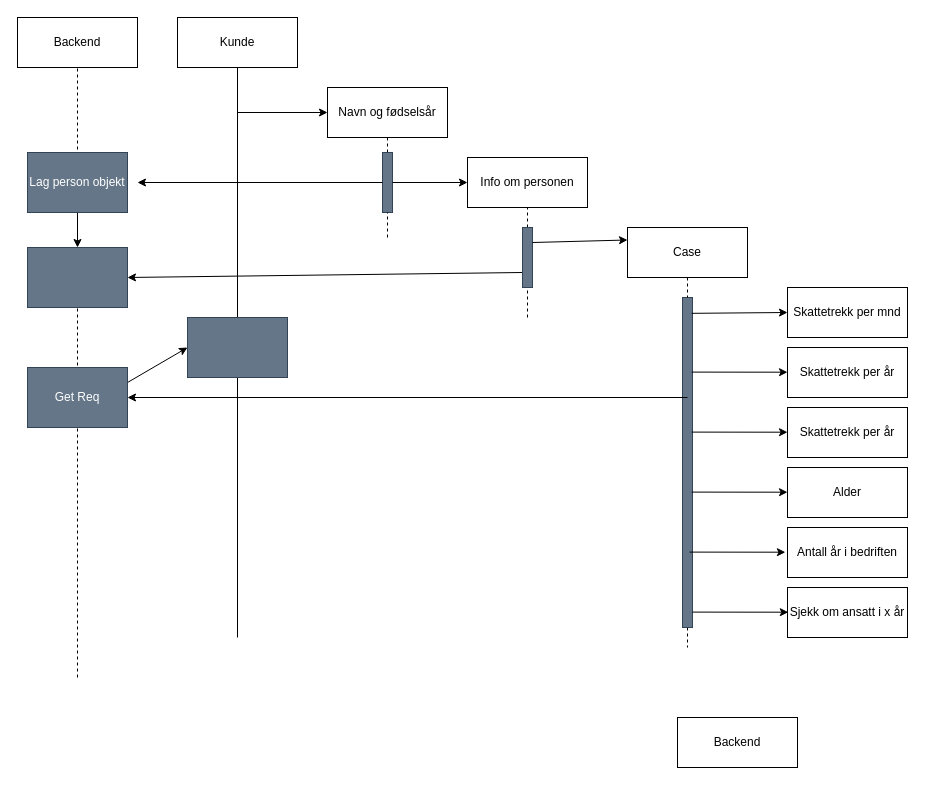
The diagram is 925 pixels wide and 785 high, and some of its shapes have lost their labels. Here are the shapes that lost their labels. From the top down, the centre of each, then its label:
[77,277]: Lag ArbTaker objekt
[237,347]: Viser til kunden
